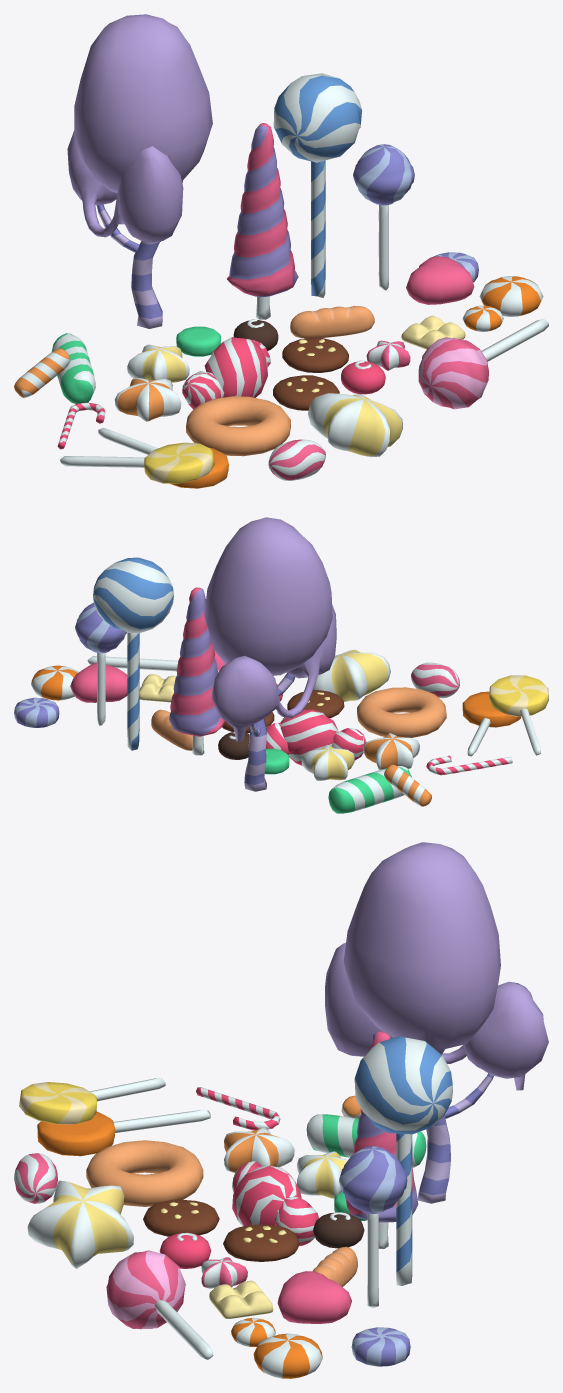
Rendered from customthird.gltf.
3 views of the same model, one above another, from view 1: azimuth 30°, elevation 25°; view 2: azimuth 150°, elevation 25°; view 3: azimuth 270°, elevation 25° (orthographic). The views are drawn at different scales.
Visible parts, largest first — view 1: Tree_CottonCandy_01_LOD1_Mat_Candy_0.001, Lolly_B_01_LOD1_Mat_Candy Specular_0, Tree_Candy_03_LOD1_Mat_Candy Specular_0, Donut_A_04_LOD1_Mat_Pastry_0, Mintstar_04_LOD1_Mat_Candy Specular_0.001, CandyPlant_A_03_LOD1_Mat_Candy Specular_0, Lollipop_A_03_LOD1_Mat_Candy Specular_0, Lollipop_A_02_LOD1_Mat_Candy Specular_0, Heartcandy_01_LOD1_Mat_Candy Specular_0.003, Tree_CottonCandy_01_LOD1_Mat_Candy Specular_0.001, Lollipop_B_01_LOD1_Mat_Candy Specular_0, Breadstick_01_LOD1_Mat_Pastry_0 (+20 smaller); view 2: Tree_CottonCandy_01_LOD1_Mat_Candy_0.001, Lolly_B_01_LOD1_Mat_Candy Specular_0, Tree_Candy_03_LOD1_Mat_Candy Specular_0, Donut_A_04_LOD1_Mat_Pastry_0, CandyPlant_A_03_LOD1_Mat_Candy Specular_0, Mintstar_04_LOD1_Mat_Candy Specular_0.001, Candybar_A_01_LOD1_Mat_Candy Specular_0, Lollipop_B_01_LOD1_Mat_Candy Specular_0, Tree_CottonCandy_01_LOD1_Mat_Candy Specular_0.001, Heartcandy_01_LOD1_Mat_Candy Specular_0.003, Lollipop_A_02_LOD1_Mat_Candy Specular_0, Mintstar_05_LOD1_Mat_Candy Specular_0 (+16 smaller); view 3: Tree_CottonCandy_01_LOD1_Mat_Candy_0.001, Lolly_B_01_LOD1_Mat_Candy Specular_0, Mintstar_04_LOD1_Mat_Candy Specular_0.001, Donut_A_04_LOD1_Mat_Pastry_0, Lollipop_A_03_LOD1_Mat_Candy Specular_0, CandyPlant_A_03_LOD1_Mat_Candy Specular_0, Lollipop_A_02_LOD1_Mat_Candy Specular_0, Heartcandy_01_LOD1_Mat_Candy Specular_0.003, Lollipop_B_01_LOD1_Mat_Candy Specular_0, Tree_CottonCandy_01_LOD1_Mat_Candy Specular_0.001, Mint_A_01_LOD1_Mat_Candy Specular_0.002, Lollipop_B_02_LOD1_Mat_Candy Specular_0 (+19 smaller).
Part boxes in pixels (x1,y1,x2,y2): Tree_CottonCandy_01_LOD1_Mat_Candy_0.001: [67, 14, 212, 242]; Lolly_B_01_LOD1_Mat_Candy Specular_0: [273, 73, 361, 297]; Tree_Candy_03_LOD1_Mat_Candy Specular_0: [227, 123, 298, 296]; Donut_A_04_LOD1_Mat_Pastry_0: [186, 396, 290, 456]; Mintstar_04_LOD1_Mat_Candy Specular_0.001: [308, 393, 402, 457]; CandyPlant_A_03_LOD1_Mat_Candy Specular_0: [182, 337, 270, 409]; Lollipop_A_03_LOD1_Mat_Candy Specular_0: [418, 337, 488, 409]; Lollipop_A_02_LOD1_Mat_Candy Specular_0: [353, 144, 414, 205]; Heartcandy_01_LOD1_Mat_Candy Specular_0.003: [406, 256, 474, 304]; Tree_CottonCandy_01_LOD1_Mat_Candy Specular_0.001: [96, 204, 162, 328]; Lollipop_B_01_LOD1_Mat_Candy Specular_0: [144, 442, 214, 483]; Breadstick_01_LOD1_Mat_Pastry_0: [290, 305, 374, 338]; Tree_CottonCandy_01_LOD1_Mat_Candy_0.001: [204, 517, 336, 741]; Lolly_B_01_LOD1_Mat_Candy Specular_0: [93, 557, 173, 750]; Tree_Candy_03_LOD1_Mat_Candy Specular_0: [169, 587, 225, 736]; Donut_A_04_LOD1_Mat_Pastry_0: [357, 687, 446, 737]; CandyPlant_A_03_LOD1_Mat_Candy Specular_0: [266, 709, 366, 765]; Mintstar_04_LOD1_Mat_Candy Specular_0.001: [313, 649, 390, 701]; Candybar_A_01_LOD1_Mat_Candy Specular_0: [328, 766, 411, 813]; Lollipop_B_01_LOD1_Mat_Candy Specular_0: [488, 675, 548, 716]; Tree_CottonCandy_01_LOD1_Mat_Candy Specular_0.001: [244, 673, 295, 791]; Heartcandy_01_LOD1_Mat_Candy Specular_0.003: [70, 662, 127, 702]; Lollipop_A_02_LOD1_Mat_Candy Specular_0: [75, 602, 126, 653]; Mintstar_05_LOD1_Mat_Candy Specular_0: [363, 733, 419, 769]; Tree_CottonCandy_01_LOD1_Mat_Candy_0.001: [325, 842, 548, 1090]; Lolly_B_01_LOD1_Mat_Candy Specular_0: [354, 1036, 452, 1285]; Mintstar_04_LOD1_Mat_Candy Specular_0.001: [27, 1180, 133, 1268]; Donut_A_04_LOD1_Mat_Pastry_0: [86, 1140, 203, 1206]; Lollipop_A_03_LOD1_Mat_Candy Specular_0: [106, 1250, 185, 1329]; CandyPlant_A_03_LOD1_Mat_Candy Specular_0: [232, 1161, 318, 1246]; Lollipop_A_02_LOD1_Mat_Candy Specular_0: [339, 1146, 407, 1213]; Heartcandy_01_LOD1_Mat_Candy Specular_0.003: [277, 1271, 351, 1323]; Lollipop_B_01_LOD1_Mat_Candy Specular_0: [19, 1082, 96, 1124]; Tree_CottonCandy_01_LOD1_Mat_Candy Specular_0.001: [417, 1073, 493, 1203]; Mint_A_01_LOD1_Mat_Candy Specular_0.002: [253, 1333, 322, 1378]; Lollipop_B_02_LOD1_Mat_Candy Specular_0: [37, 1111, 115, 1156].
Size of the model in its own units: 113 by 69.36 by 88.54.
Materials: 10 (10 with a texture image).
